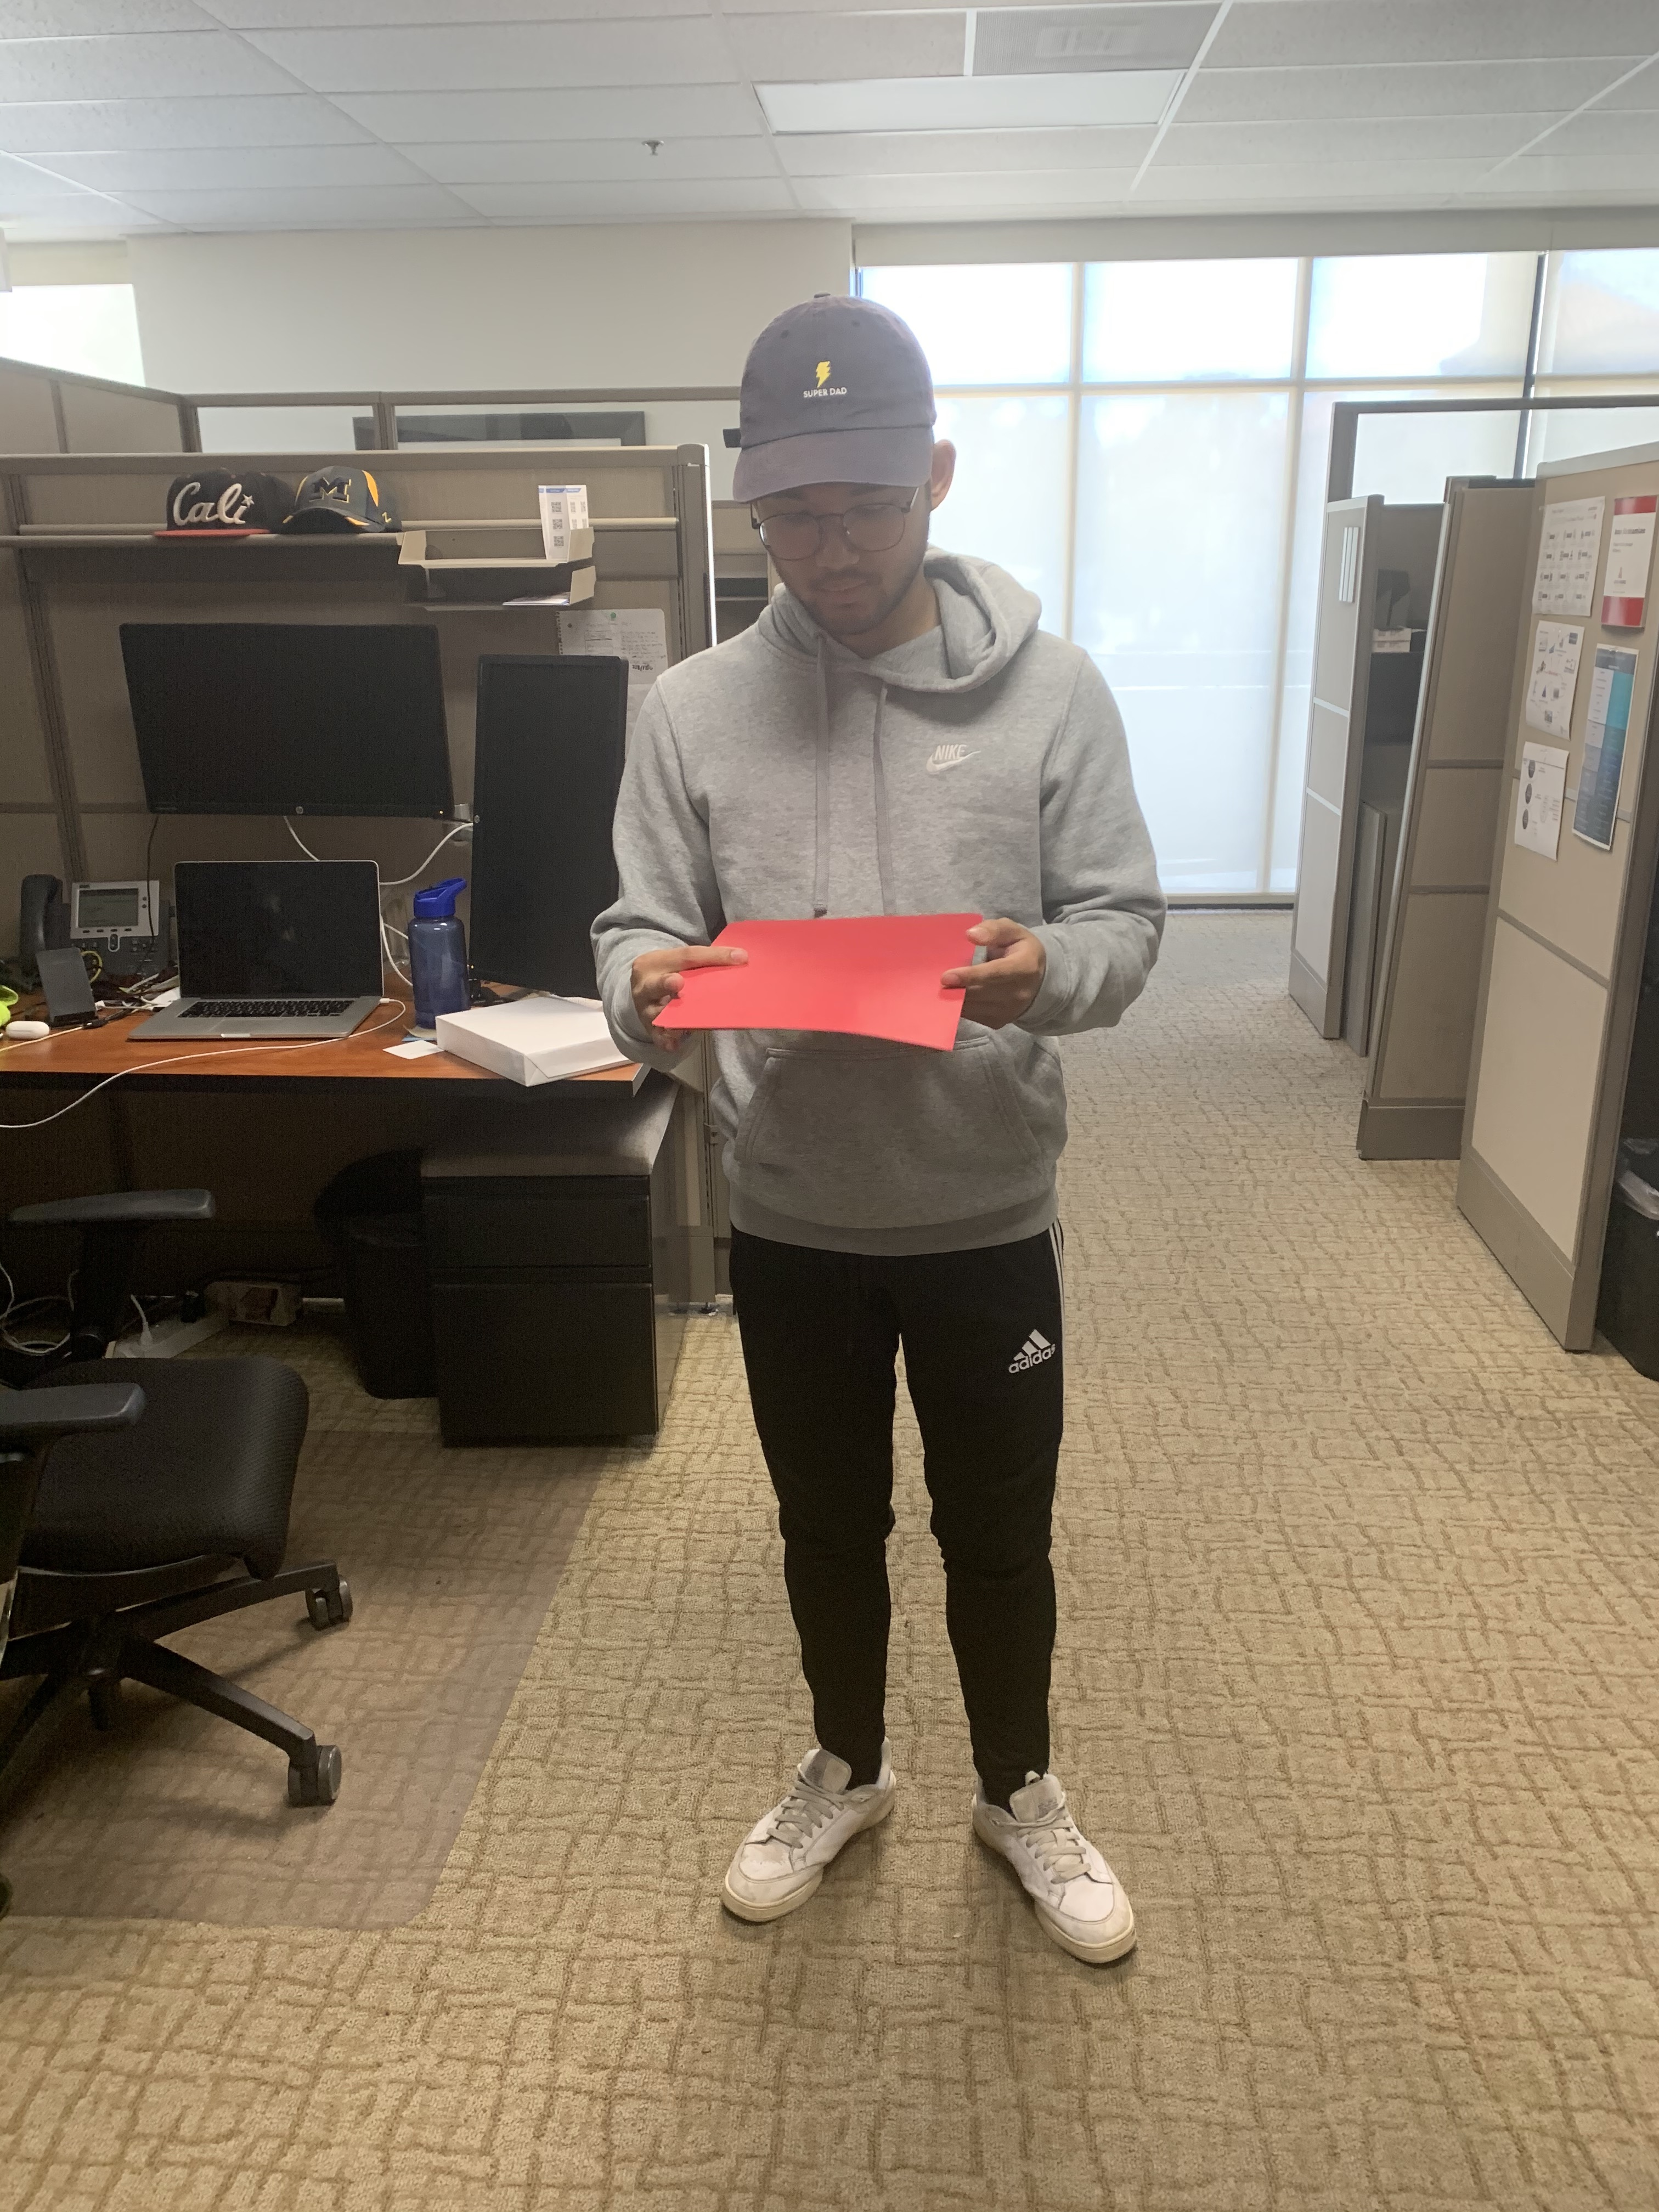red folder: (634, 895, 1018, 1085)
